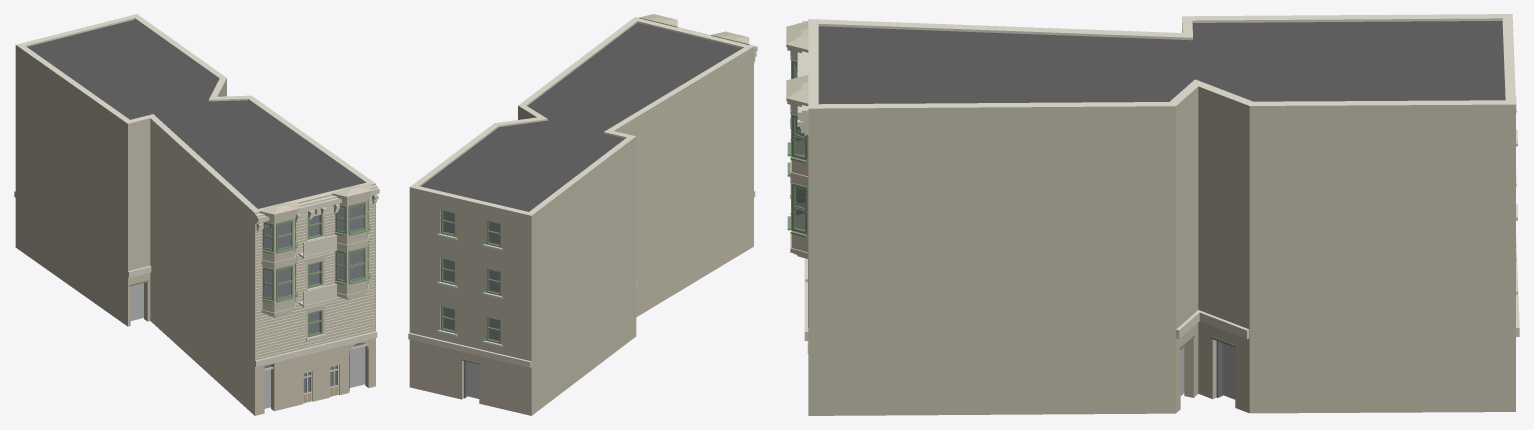
The model's file is exterior.glb.
3 views of the same model, side by side, from view 1: azimuth 30°, elevation 25°; view 2: azimuth 150°, elevation 25°; view 3: azimuth 270°, elevation 25° (orthographic). The views are drawn at different scales.
Visible parts, largest first — view 1: shell, roof, bay-glazing-hyb, bay-windows-hyb, shadow-proxy, hyD-shingle-3, trim, hand-ornament, glazing, storefront, frames; view 2: shell, roof, shadow-proxy, trim, glazing, frames, bay-windows-hyb; view 3: shell, roof, bay-windows-hyb, trim, bay-glazing-hyb, shadow-proxy.
Boxes of the visible parts, x1=… form: shell: x1=15, y1=14, x2=375, y2=415; roof: x1=27, y1=19, x2=364, y2=208; bay-glazing-hyb: x1=262, y1=197, x2=370, y2=302; bay-windows-hyb: x1=259, y1=184, x2=371, y2=317; shadow-proxy: x1=130, y1=206, x2=365, y2=408; hyD-shingle-3: x1=256, y1=202, x2=374, y2=359; trim: x1=14, y1=185, x2=379, y2=367; hand-ornament: x1=299, y1=234, x2=336, y2=307; glazing: x1=264, y1=215, x2=365, y2=392; storefront: x1=129, y1=280, x2=367, y2=403; frames: x1=308, y1=215, x2=322, y2=337; shell: x1=409, y1=17, x2=753, y2=415; roof: x1=420, y1=22, x2=741, y2=211; shadow-proxy: x1=444, y1=212, x2=499, y2=398; trim: x1=408, y1=17, x2=757, y2=367; glazing: x1=443, y1=211, x2=499, y2=341; frames: x1=441, y1=210, x2=500, y2=343; bay-windows-hyb: x1=639, y1=14, x2=749, y2=45; shell: x1=808, y1=14, x2=1515, y2=415; roof: x1=818, y1=21, x2=1505, y2=104; bay-windows-hyb: x1=786, y1=21, x2=808, y2=258; trim: x1=797, y1=21, x2=1519, y2=340; bay-glazing-hyb: x1=787, y1=51, x2=807, y2=237; shadow-proxy: x1=1180, y1=343, x2=1235, y2=399.
Bounding box in the file's own units: 7.4 × 11.36 × 24.24.
